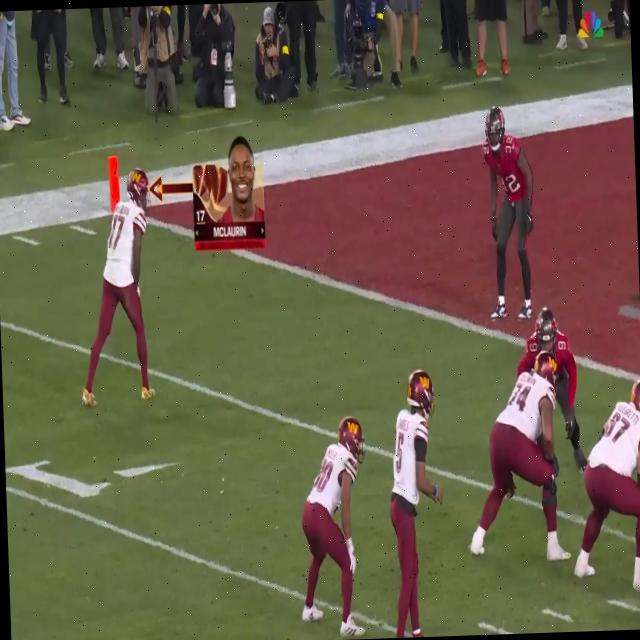Player: (463, 348, 568, 556), (287, 417, 374, 640), (380, 361, 442, 637), (566, 362, 640, 586), (95, 162, 156, 420), (476, 89, 540, 328)
